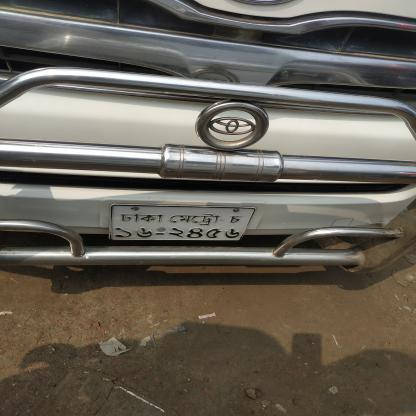license_plate: (57, 197, 261, 268)
